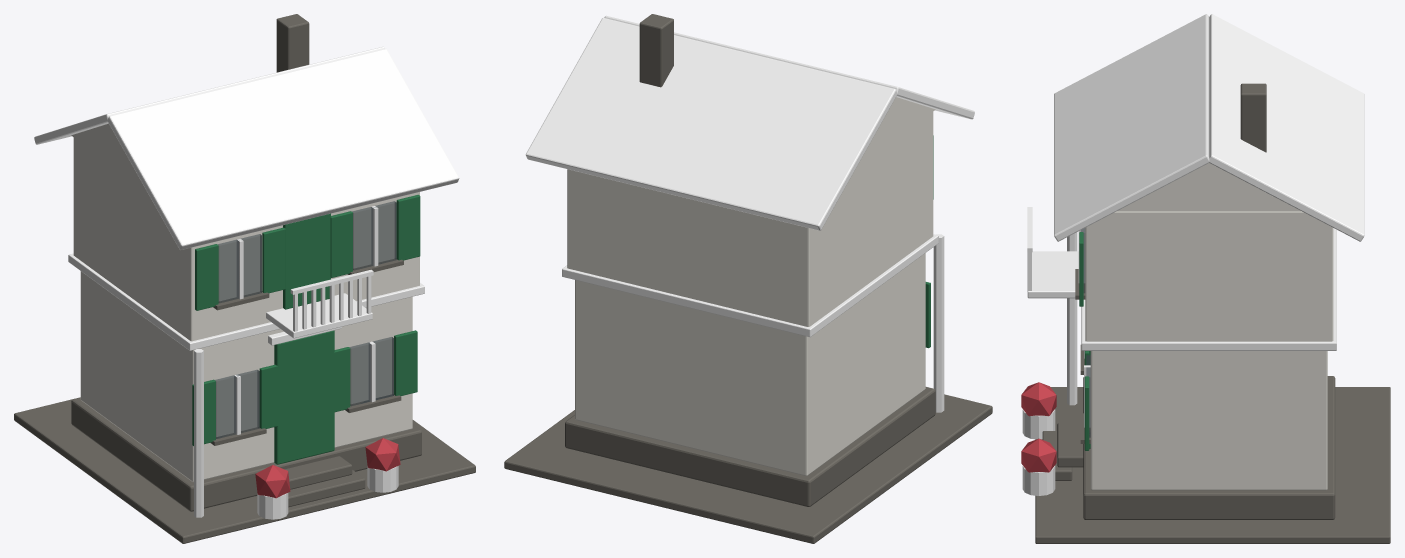
File: lojman.glb
3 views of the same model, side by side, from view 1: azimuth 30°, elevation 25°; view 2: azimuth 150°, elevation 25°; view 3: azimuth 270°, elevation 25° (orthographic). The views are drawn at different scales.
Visible parts, largest first — view 1: Alin; view 2: Alin; view 3: Alin.
Part boxes in pixels (left/top/right/bottom): Alin: left=14, top=14, right=475, bottom=543; Alin: left=504, top=14, right=992, bottom=543; Alin: left=1021, top=14, right=1390, bottom=543.
Size of the model in its own units: 0.9623 by 1.24 by 1.
